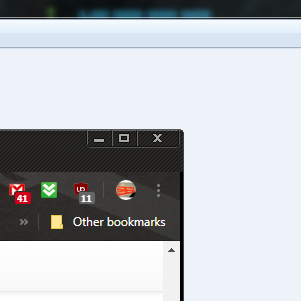close: (137, 128, 180, 147)
